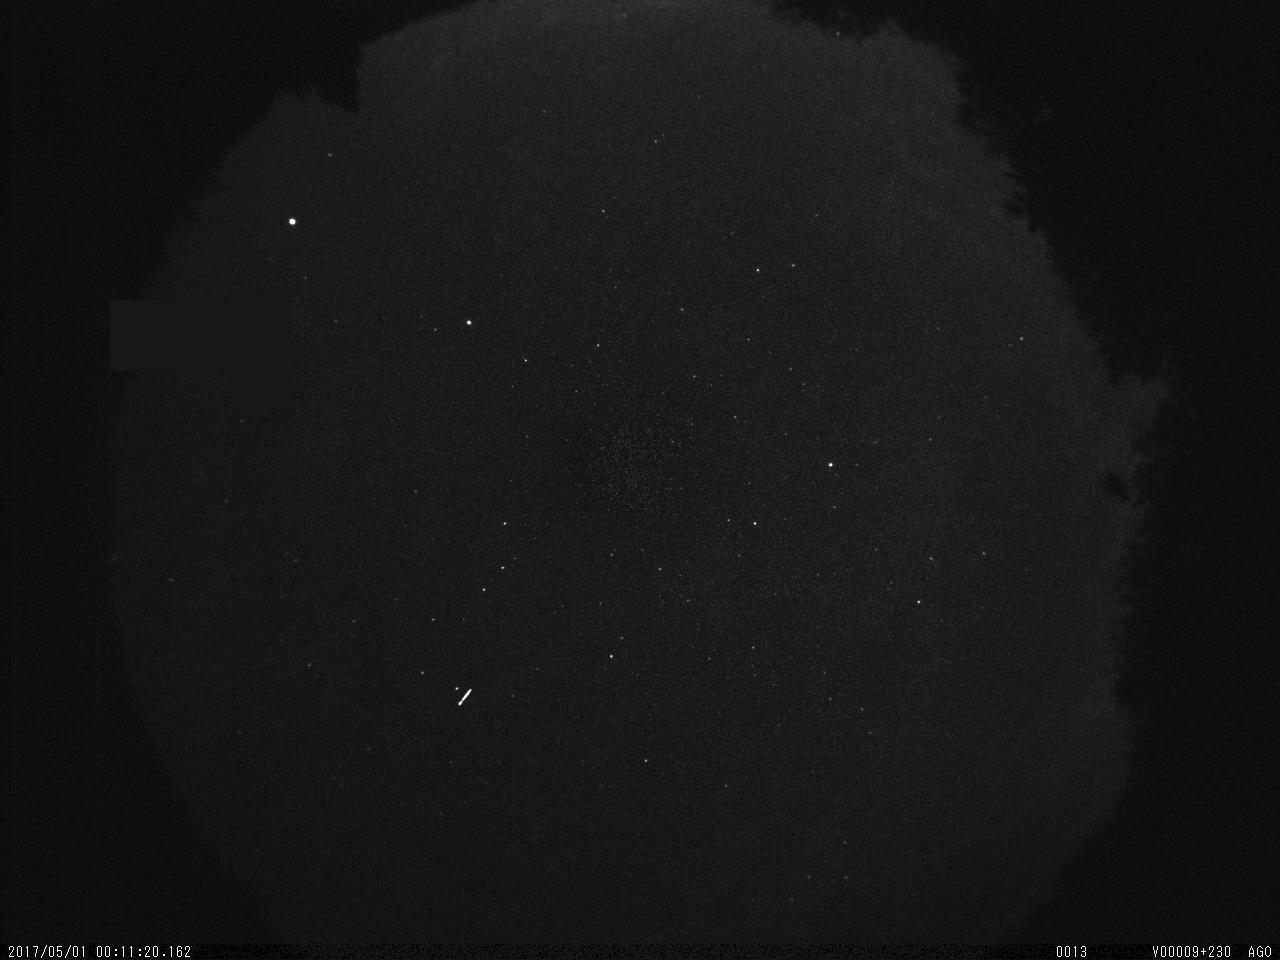Meteor: (455, 682, 472, 708)
